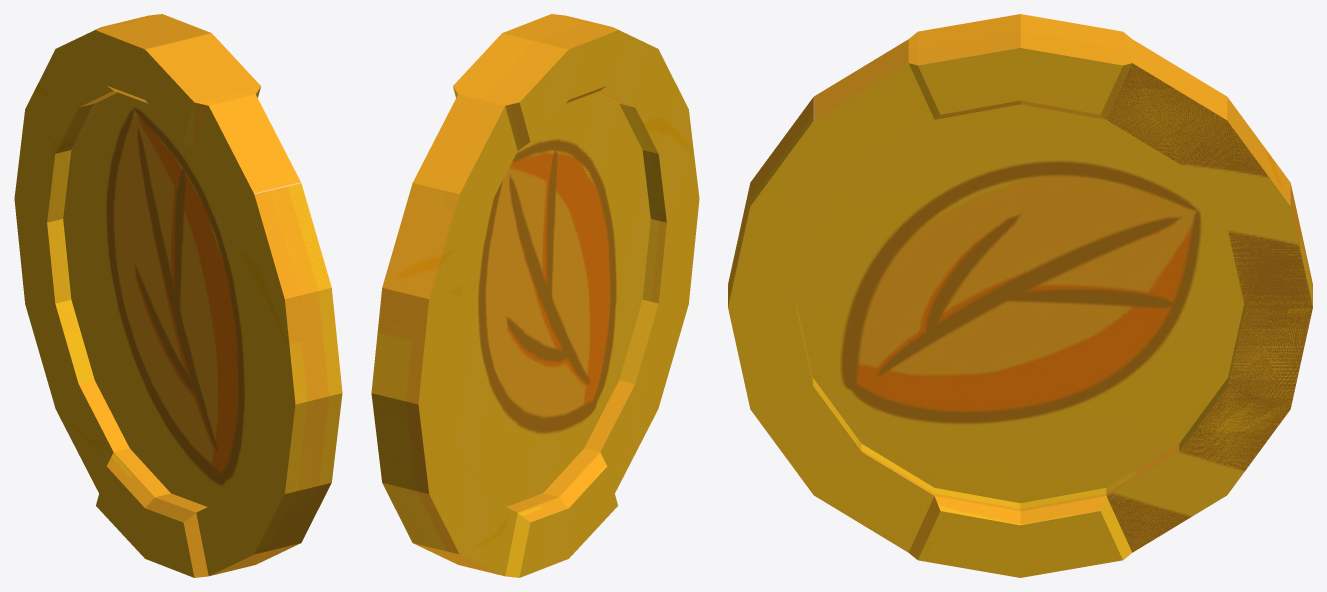
The model's file is coin.fbx.
3 renders of one model, left to right at view 1: azimuth 30°, elevation 25°; view 2: azimuth 150°, elevation 25°; view 3: azimuth 270°, elevation 25°, orthographic. The views are drawn at different scales.
Visible parts, largest first — view 1: Cylinder; view 2: Cylinder; view 3: Cylinder.
Part boxes in pixels (bbox=[...]): Cylinder: bbox=[14, 14, 342, 577]; Cylinder: bbox=[371, 14, 699, 577]; Cylinder: bbox=[728, 14, 1312, 577].
Size of the model in its own units: 27.45 by 200 by 200.
